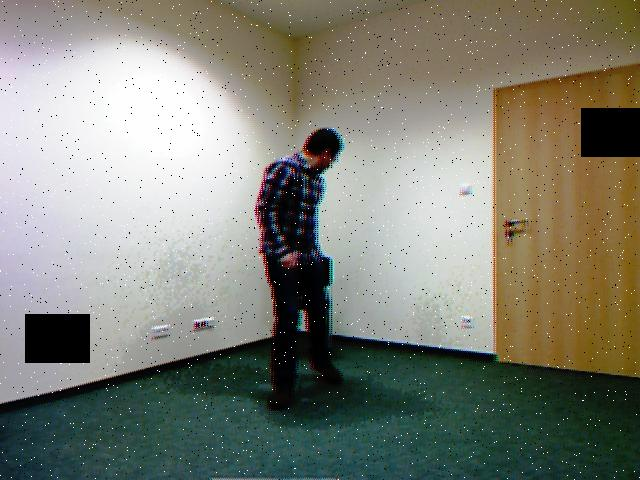walking: (244, 126, 363, 416)
